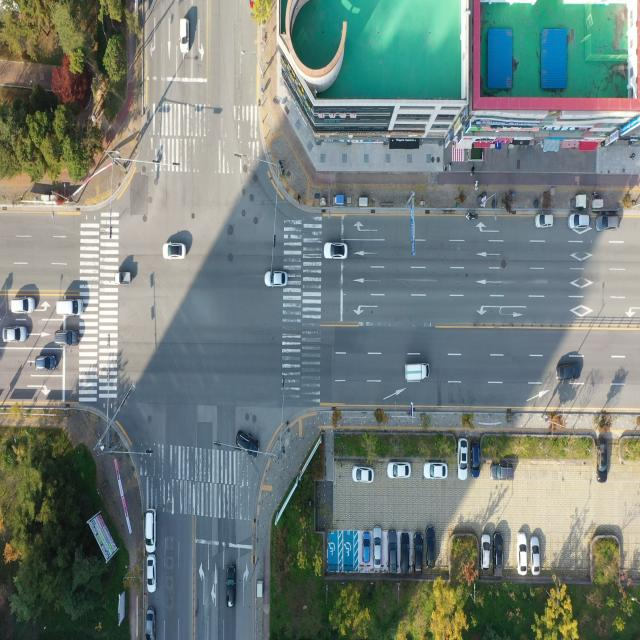car: (234, 432, 258, 457), (145, 509, 156, 553), (597, 438, 609, 477), (57, 300, 83, 318), (458, 439, 469, 479), (226, 563, 236, 607), (12, 298, 36, 316), (596, 214, 620, 232), (388, 529, 398, 571), (426, 462, 449, 480), (519, 533, 529, 574), (426, 527, 436, 568), (325, 243, 349, 260), (56, 332, 80, 349), (164, 243, 186, 261), (352, 466, 373, 484), (388, 462, 410, 479), (556, 364, 578, 381), (470, 441, 480, 478), (180, 18, 190, 55), (399, 531, 408, 572), (495, 535, 504, 576), (3, 328, 26, 344), (415, 532, 424, 572), (266, 272, 288, 288), (491, 464, 513, 480), (146, 555, 155, 593), (36, 355, 56, 372), (569, 214, 590, 230), (144, 610, 155, 640), (483, 535, 492, 571), (374, 532, 383, 566), (362, 530, 371, 564), (531, 536, 539, 574), (534, 214, 552, 229), (115, 272, 132, 286)
small_truck: (404, 364, 430, 383)
